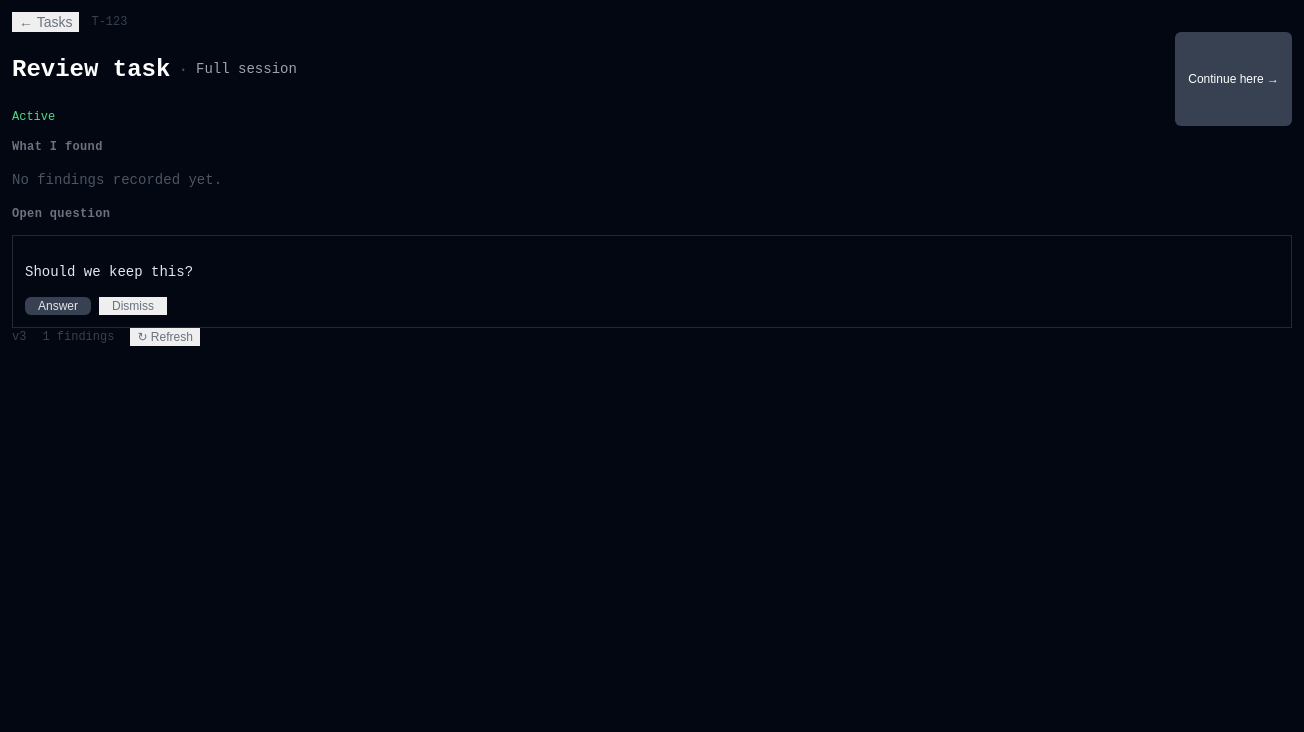
it: TaskDetailTab answer and dismiss actions › shows an inline error and keeps the modal open when answer save fails
Expected: the text "Should we keep this?" is shown, 25,264 -> 193,280
Step 1. Click the button "Answer" → (58, 306), box 25,297 -> 91,315
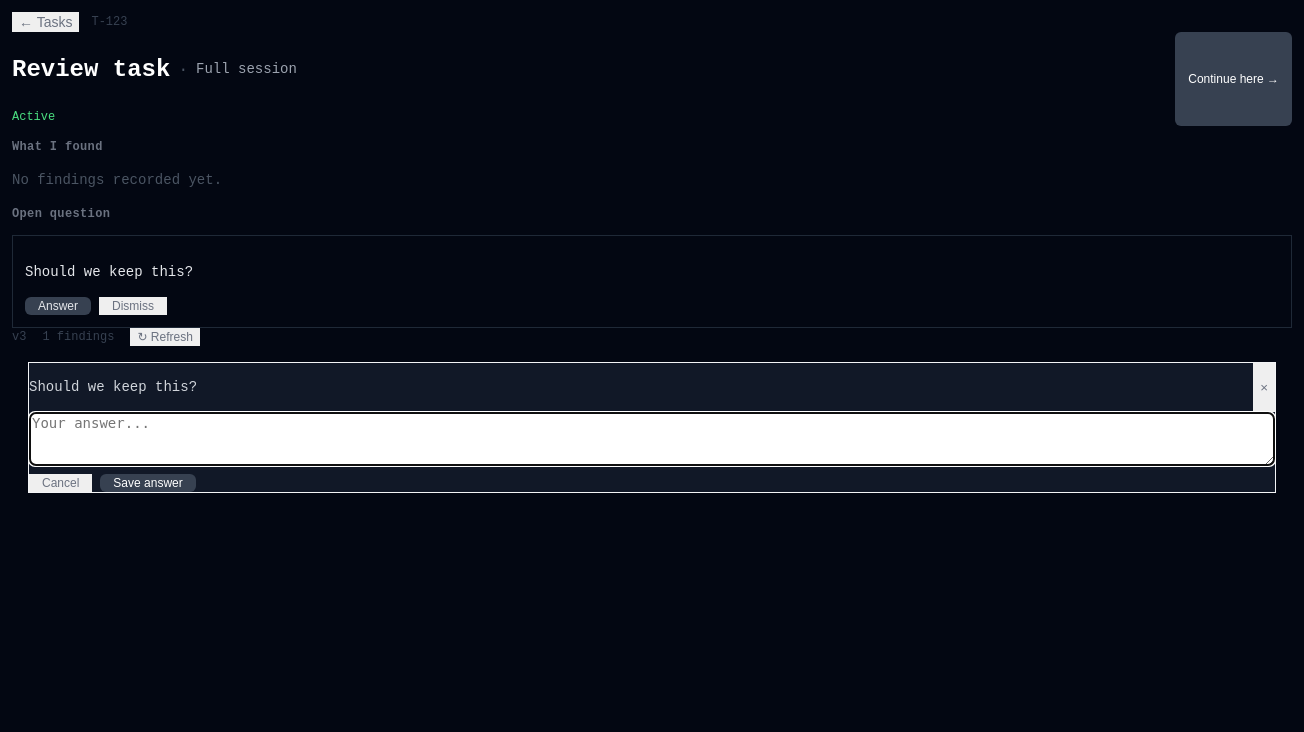
Step 2. Type "Yes" into the text box with placeholder "Your answer..." → (652, 439), box 29,412 -> 1275,466
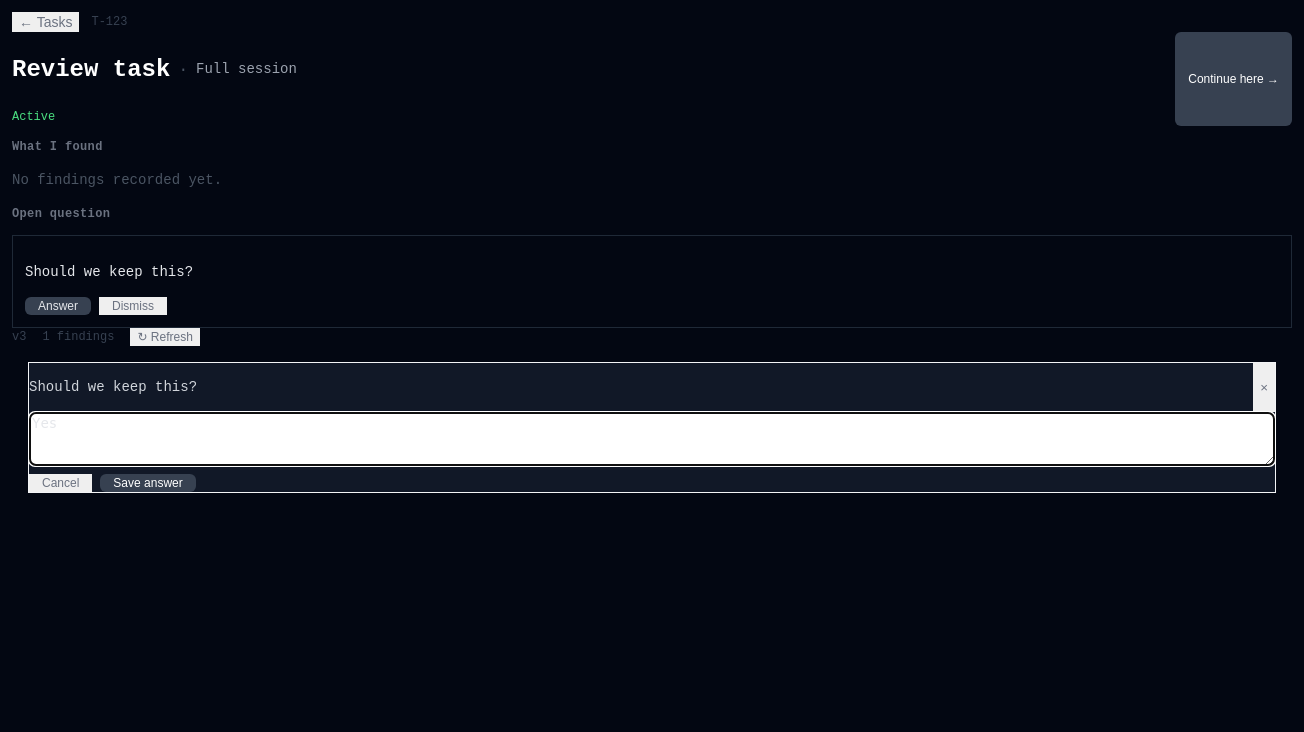
Step 3. Click the button "Save answer" → (148, 483), box 100,474 -> 196,492
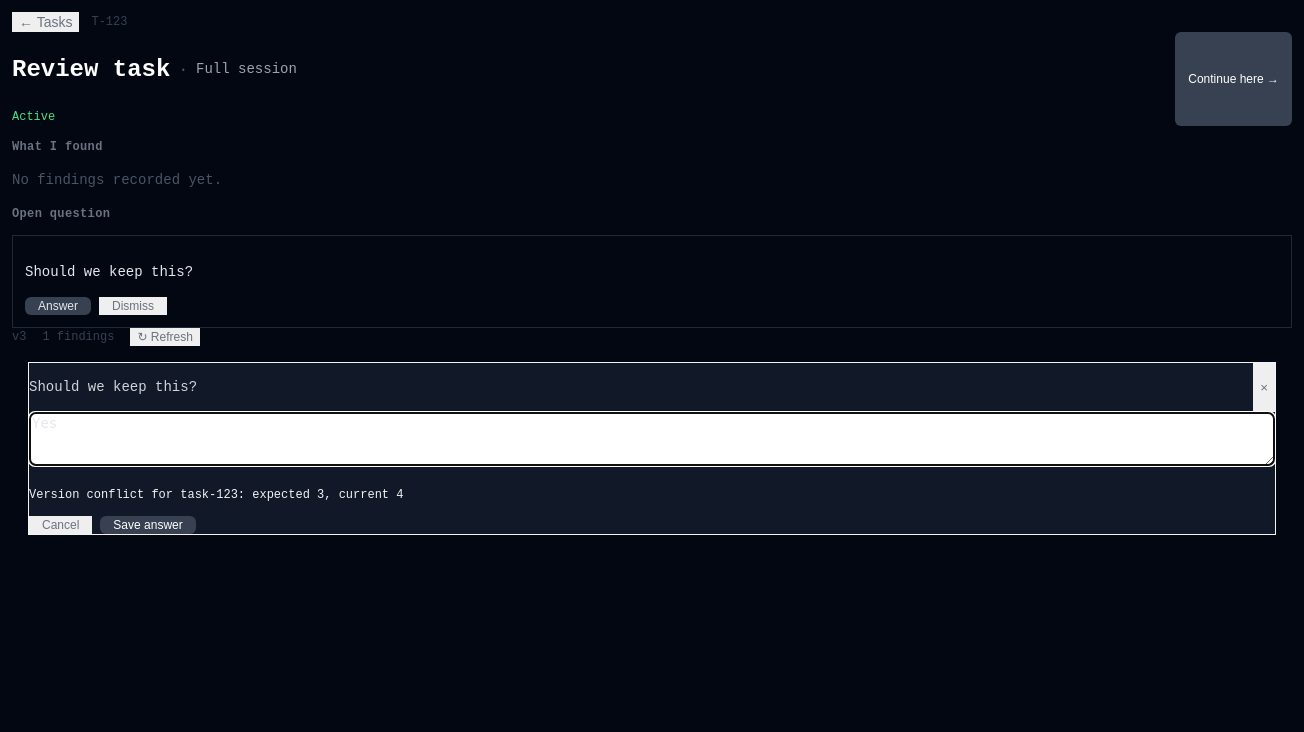
Now the button "Save answer" is enabled, box 100,516 -> 196,534
Now the message reads "Version conflict for task-123: expected 3, current 4", box 29,488 -> 404,502
